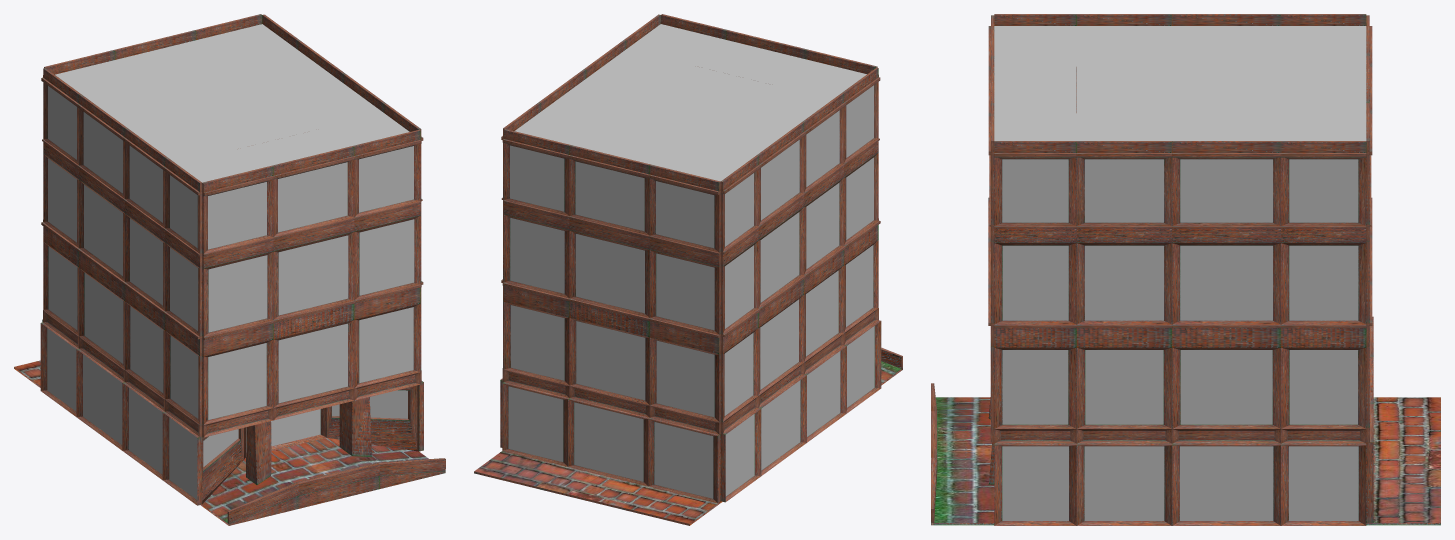
The model's file is building2.fbx.
The picture shows the model from 3 angles, left to right: view 1: azimuth 30°, elevation 25°; view 2: azimuth 150°, elevation 25°; view 3: azimuth 270°, elevation 25°; orthographic projection. The views are drawn at different scales.
Parts seen in each view (by area): view 1: Cube.001; view 2: Cube.001; view 3: Cube.001.
Boxes of the visible parts, <box> form: Cube.001: <box>14,14,445,525</box>; Cube.001: <box>474,14,902,525</box>; Cube.001: <box>931,14,1440,525</box>.
Size of the model in its own units: 384 by 524 by 630.
